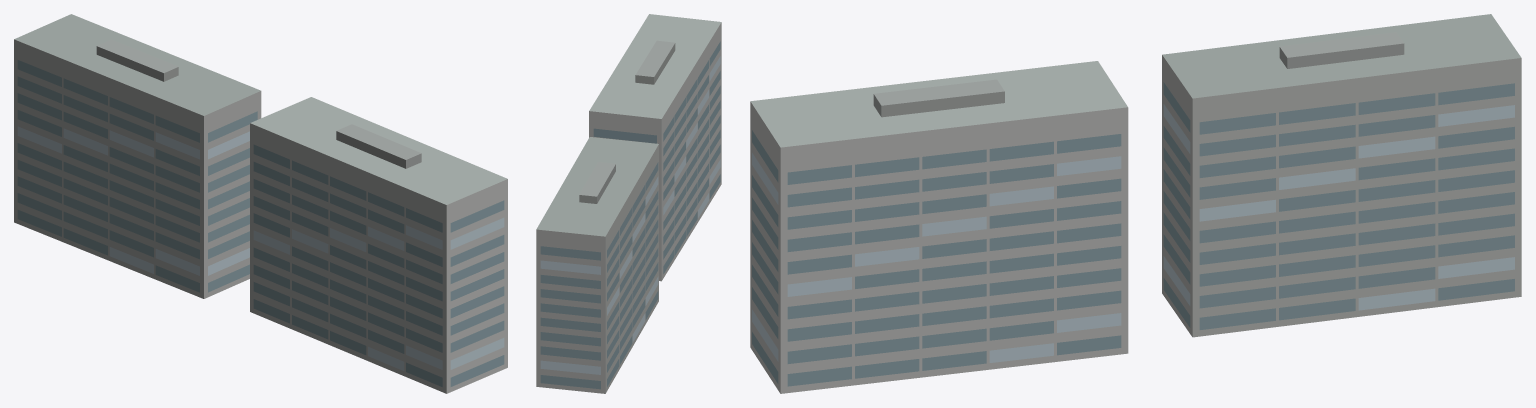
The model's file is apt-a13775101.glb.
The picture shows the model from 3 angles, left to right: view 1: azimuth 30°, elevation 25°; view 2: azimuth 150°, elevation 25°; view 3: azimuth 270°, elevation 25°; orthographic projection. The views are drawn at different scales.
Parts seen in each view (by area): view 1: apt-a13775101; view 2: apt-a13775101; view 3: apt-a13775101.
Boxes of the visible parts, bbox=[...] form: apt-a13775101: bbox=[14, 14, 507, 393]; apt-a13775101: bbox=[536, 14, 721, 393]; apt-a13775101: bbox=[750, 14, 1521, 393].
Bounding box in the file's own units: 38.7 × 33 × 89.41.
